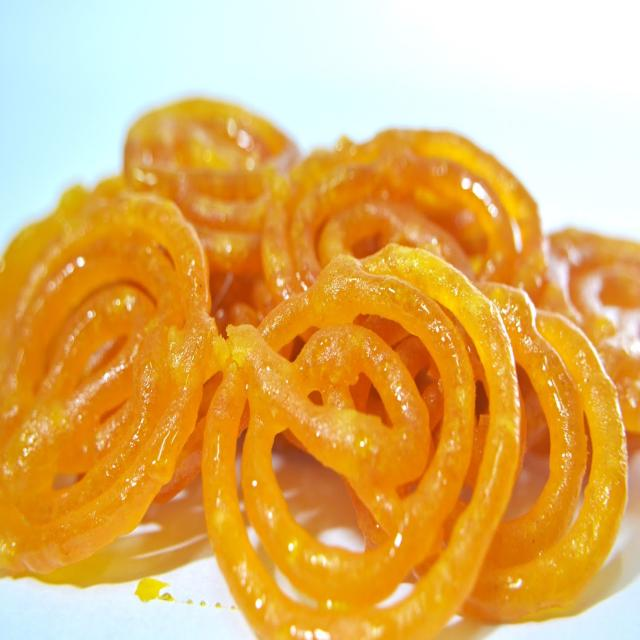jalebi: (10, 108, 608, 640)
